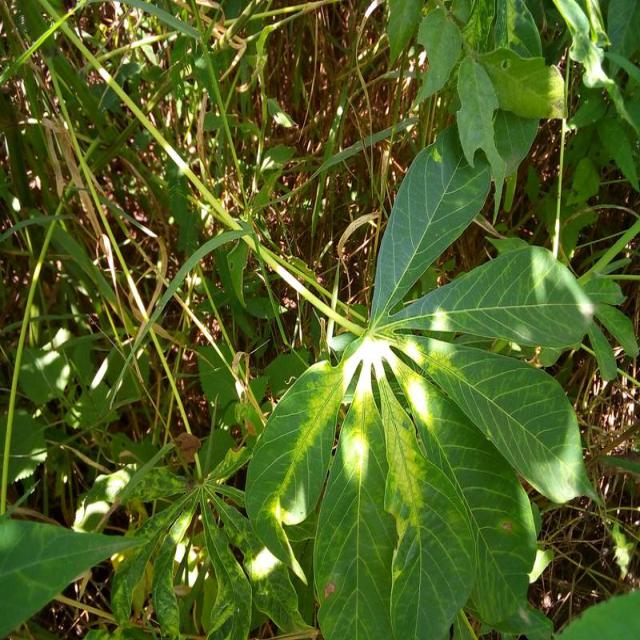cassava leaf: (240, 120, 597, 637), (369, 121, 491, 324)
